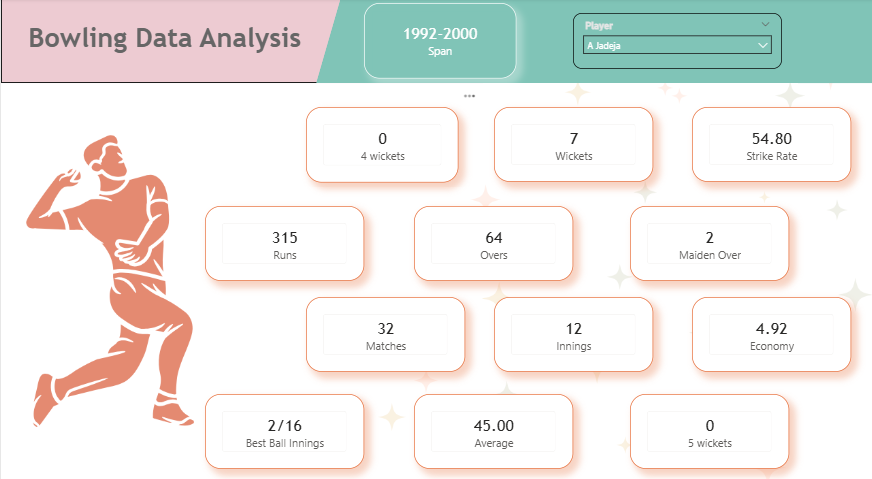

What the dashboard file says about the page in this screenshot:
{"tool":"powerbi","page":{"name":"Bowling","canvas":[1280,720],"ordinal":2},"visuals":[{"type":"shape","box":[0,0,707.4,125.2],"z":0},{"type":"shape","box":[462.5,0,817.5,125.2],"z":1000},{"type":"shape","box":[1171.3,0,108.7,125.2],"z":2000},{"type":"slicer","fields":{"Values":["Bowling.Player"]},"box":[840.5,22,307.1,82.3],"z":3000},{"type":"cardVisual","fields":{"Data":["Sum(Bowling.SR)"]},"box":[1015.7,159.7,234,110.1],"z":4000},{"type":"cardVisual","fields":{"Data":["Sum(Bowling.Wkts)"]},"box":[724,159.7,234,110.1],"z":5000},{"type":"cardVisual","fields":{"Data":["Sum(Bowling.Runs)"]},"box":[300,305.5,234,110.1],"z":6000},{"type":"cardVisual","fields":{"Data":["Sum(Bowling.Overs)"]},"box":[607,305.5,234,110.1],"z":7000},{"type":"cardVisual","fields":{"Data":["Sum(Bowling.Mdns)"]},"box":[923.5,305.5,234,110.1],"z":8000},{"type":"cardVisual","fields":{"Data":["Sum(Bowling.Mat)"]},"box":[448.7,439.1,234,110.1],"z":9000},{"type":"cardVisual","fields":{"Data":["Sum(Bowling.Inns)"]},"box":[724,439.1,234,110.1],"z":10000},{"type":"cardVisual","fields":{"Data":["Sum(Bowling.Econ)"]},"box":[1015.7,439.1,234,110.1],"z":11000},{"type":"cardVisual","fields":{"Data":["Min(Bowling.BBI)"]},"box":[300,582.2,234,110.1],"z":12000},{"type":"cardVisual","fields":{"Data":["Sum(Bowling.Ave)"]},"box":[607,582.2,234,110.1],"z":13000},{"type":"cardVisual","fields":{"Data":["Sum(Bowling.5)"]},"box":[923.5,582.2,234,110.1],"z":14000},{"type":"cardVisual","fields":{"Data":["Sum(Bowling.4)"]},"box":[448.7,159.7,224.3,111.5],"z":15000},{"type":"cardVisual","fields":{"Data":["Min(Bowling.Span)"]},"box":[534,6.9,224.3,111.5],"z":16000}]}

Visuals, with their boxes in screenshot pixels (x1, y1, x2, y2), scaled from the page's 1280x720 canvas onto the 872x479 screenshot:
shape: 0, 0, 482, 83
shape: 315, 0, 871, 83
shape: 798, 0, 871, 83
slicer - Bowling.Player: 573, 15, 782, 69
cardVisual - Sum(Bowling.SR): 692, 106, 851, 179
cardVisual - Sum(Bowling.Wkts): 493, 106, 653, 179
cardVisual - Sum(Bowling.Runs): 204, 203, 364, 276
cardVisual - Sum(Bowling.Overs): 414, 203, 573, 276
cardVisual - Sum(Bowling.Mdns): 629, 203, 789, 276
cardVisual - Sum(Bowling.Mat): 306, 292, 465, 365
cardVisual - Sum(Bowling.Inns): 493, 292, 653, 365
cardVisual - Sum(Bowling.Econ): 692, 292, 851, 365
cardVisual - Min(Bowling.BBI): 204, 387, 364, 461
cardVisual - Sum(Bowling.Ave): 414, 387, 573, 461
cardVisual - Sum(Bowling.5): 629, 387, 789, 461
cardVisual - Sum(Bowling.4): 306, 106, 458, 180
cardVisual - Min(Bowling.Span): 364, 5, 517, 79
